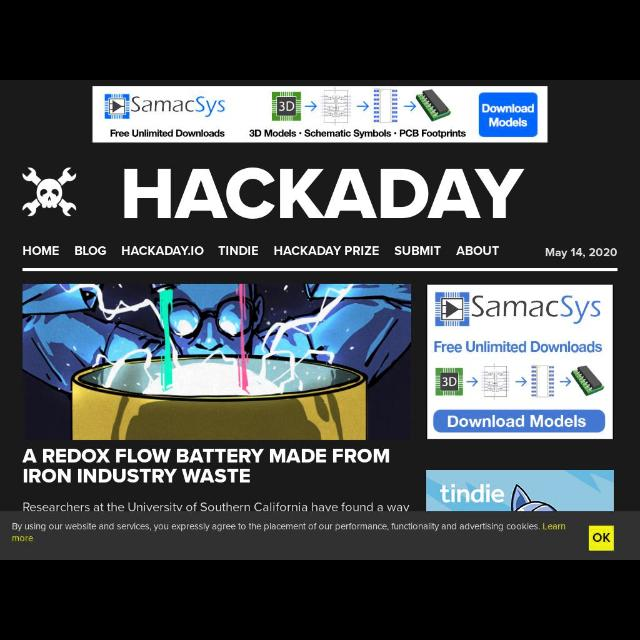iframe: (94, 87, 546, 143)
image: (22, 284, 412, 441), (427, 284, 613, 438), (427, 471, 613, 512), (21, 167, 78, 217)
multitab: (22, 242, 620, 272)
text: (122, 168, 524, 218), (23, 449, 390, 483), (11, 522, 566, 542), (21, 502, 408, 514), (274, 245, 380, 257), (545, 247, 617, 260), (122, 245, 204, 255), (396, 244, 440, 256), (22, 245, 59, 257), (456, 245, 500, 255), (218, 245, 260, 255), (76, 244, 106, 256), (593, 532, 609, 544)
textbutton: (589, 526, 613, 550)
